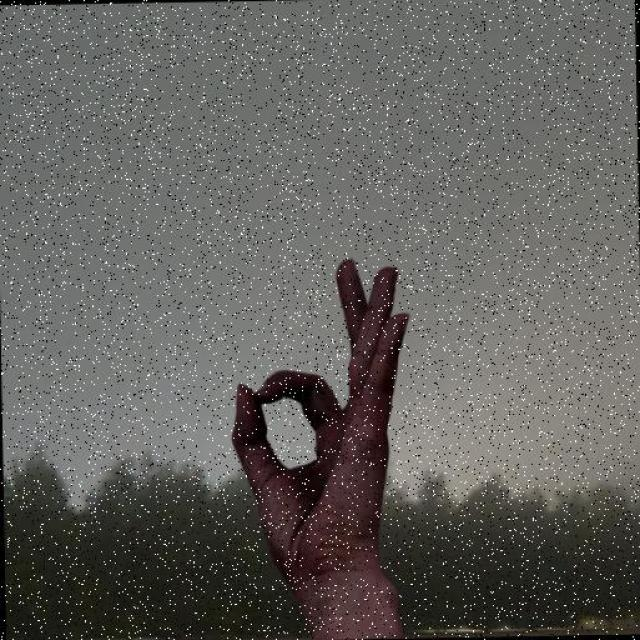F: (216, 256, 418, 578)
